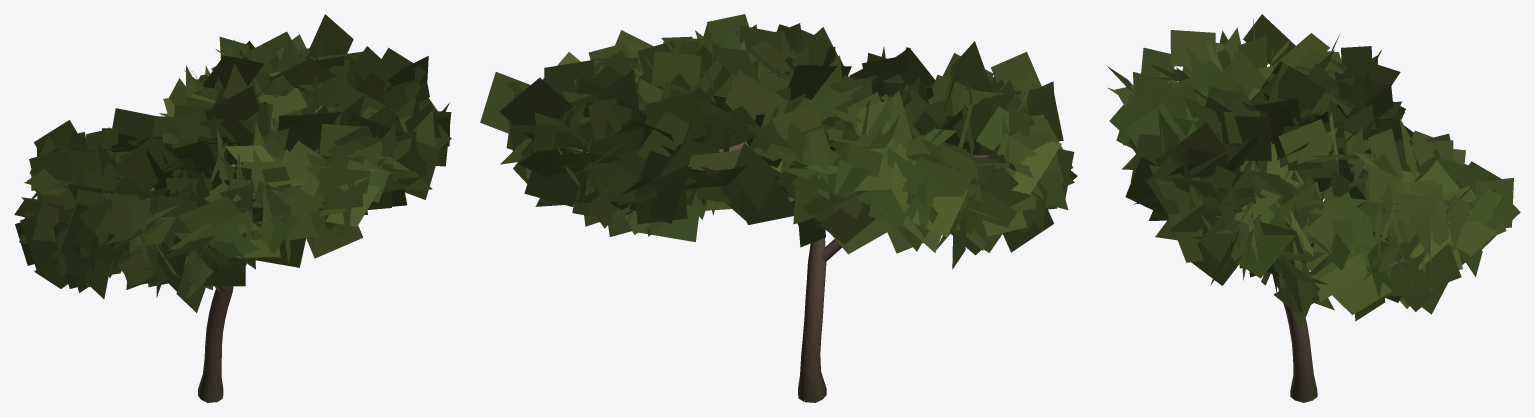
Rendered from broadleaf.acacia.green.glb.
3 views of the same model, side by side, from view 1: azimuth 30°, elevation 25°; view 2: azimuth 150°, elevation 25°; view 3: azimuth 270°, elevation 25° (orthographic). The views are drawn at different scales.
Parts seen in each view (by area): view 1: broadleaf_acacia_green; view 2: broadleaf_acacia_green; view 3: broadleaf_acacia_green.
Boxes of the visible parts, left/top/right/bottom form: broadleaf_acacia_green: left=14, top=14, right=451, bottom=402; broadleaf_acacia_green: left=480, top=14, right=1077, bottom=402; broadleaf_acacia_green: left=1107, top=14, right=1520, bottom=402.
Size of what is drawn, in the model's own units: 12.41 by 7.52 by 9.12.
